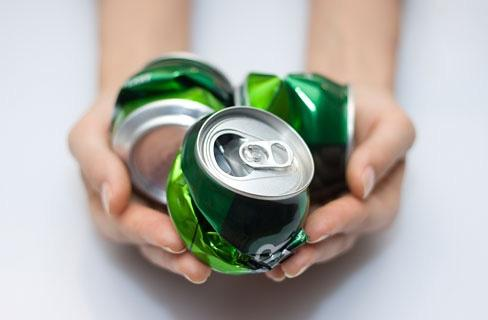metal: (163, 104, 316, 272), (118, 51, 238, 193), (241, 64, 355, 192)
